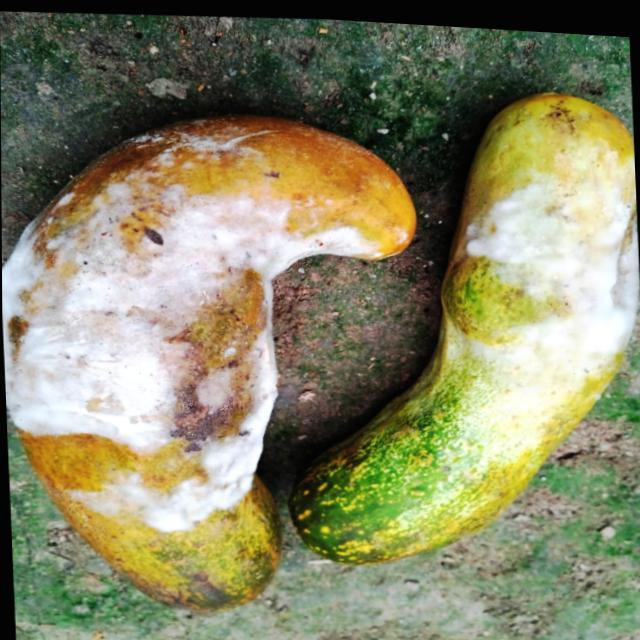Pythium-Fruit-Rot: (1, 110, 380, 548), (440, 162, 640, 430)
